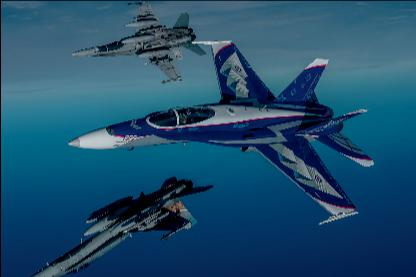F15: (66, 40, 372, 226), (16, 176, 214, 276), (70, 2, 204, 84)
